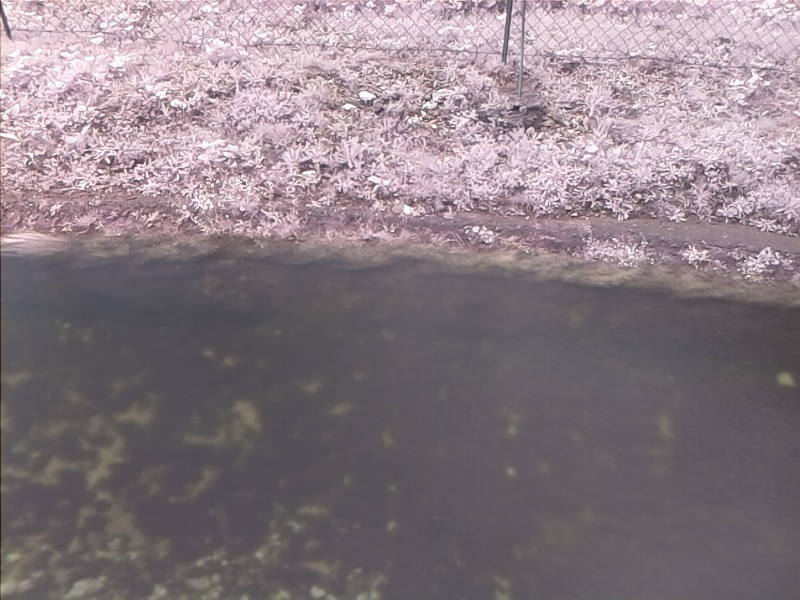Water: (3, 230, 800, 598)
